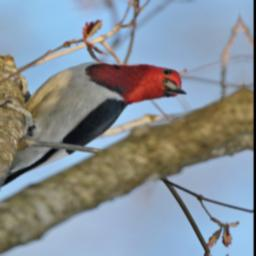Woodpecker: (0, 52, 203, 197)
